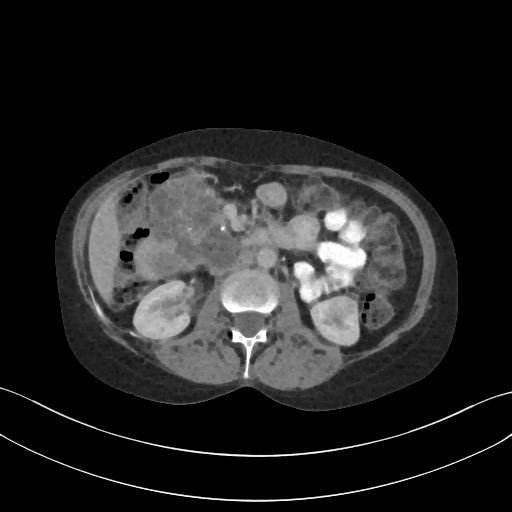Lesion: (323, 295, 356, 322)
